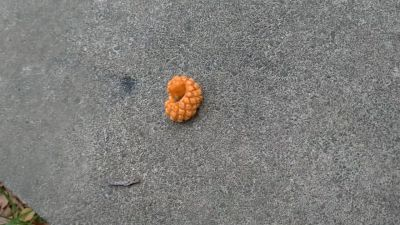eggs: (162, 75, 204, 126)
